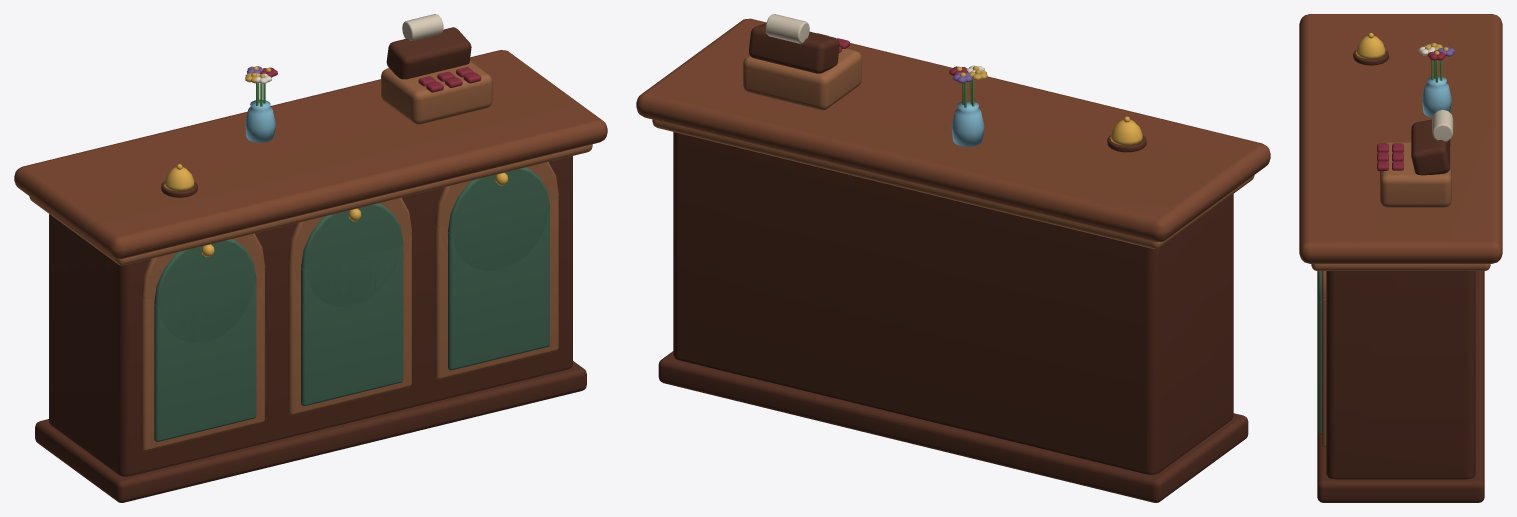
Rendered from shop-counter.glb.
3 views of the same model, side by side, from view 1: azimuth 30°, elevation 25°; view 2: azimuth 150°, elevation 25°; view 3: azimuth 270°, elevation 25° (orthographic). The views are drawn at different scales.
Parts seen in each view (by area): view 1: shop-counter; view 2: shop-counter; view 3: shop-counter.
Boxes of the visible parts, bbox=[...] form: shop-counter: bbox=[14, 14, 607, 502]; shop-counter: bbox=[636, 14, 1270, 502]; shop-counter: bbox=[1299, 14, 1502, 502].
Size of the model in its own units: 1.86 by 1.25 by 0.68.
